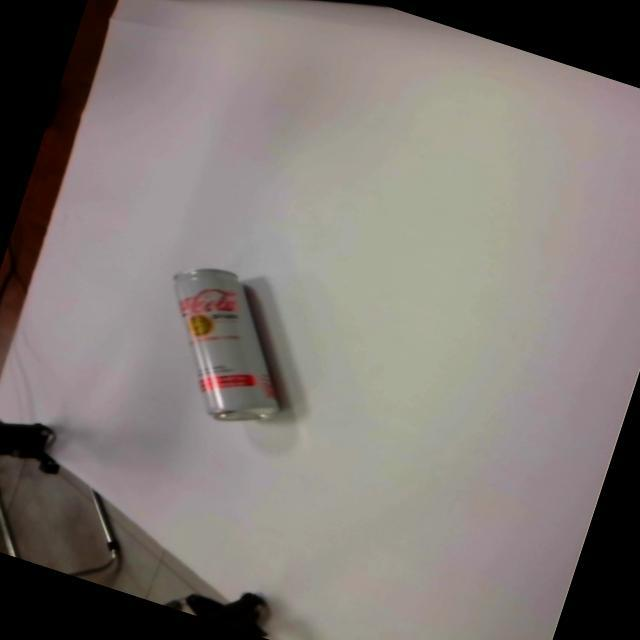debris: (133, 252, 318, 439)
